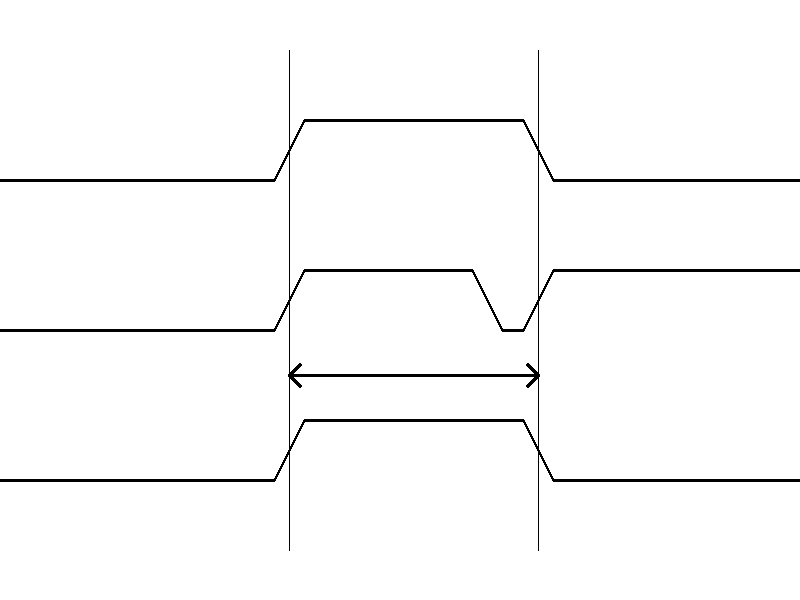double_arrow: (289, 360, 538, 390)
